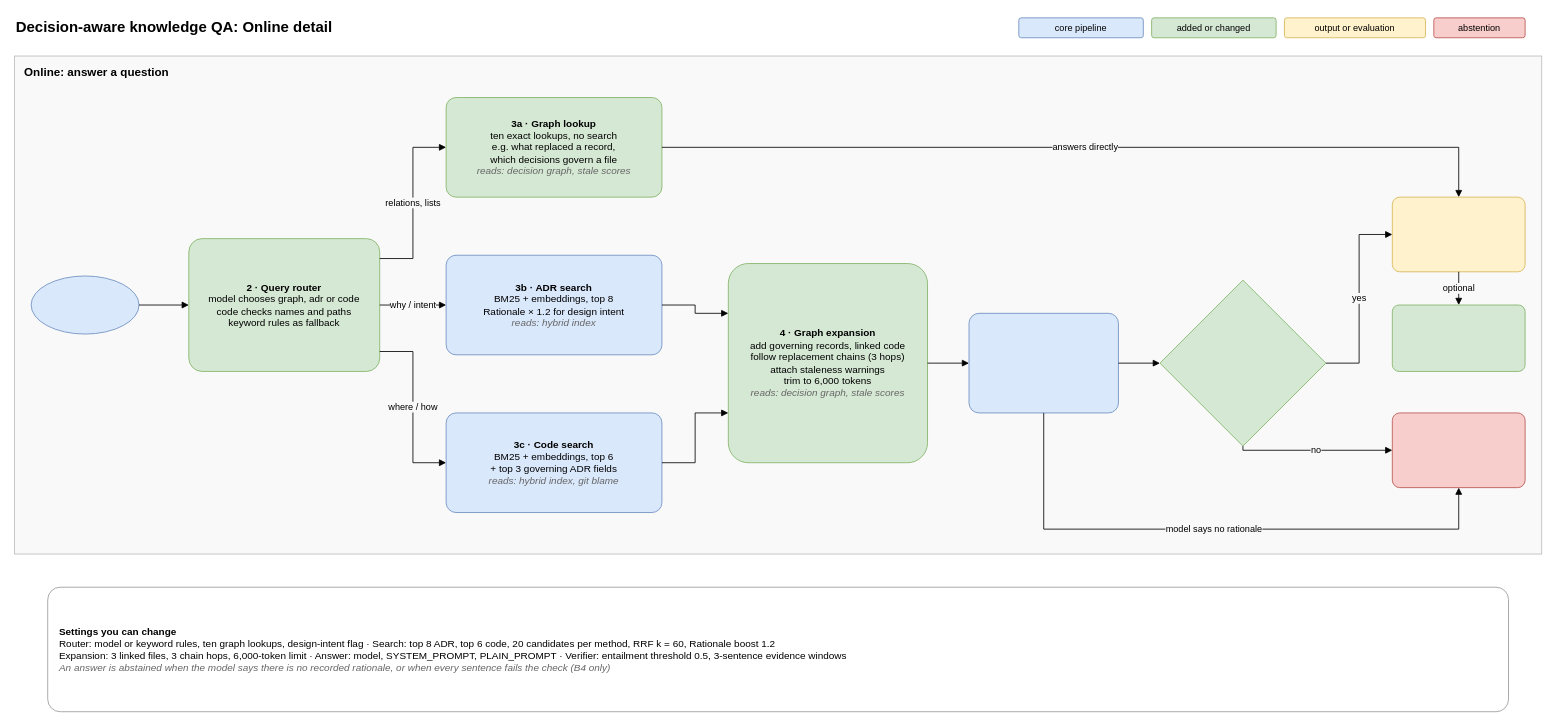
Some shapes in this 1556 by 726 pixel diagram are drawn without their labels. Each missing label, with the centre of its shape:
"1 · Developer question" belongs at pixel 84 304.
"5 · Answer model cites source IDs (SYSTEM_PROMPT)" belongs at pixel 1043 362.
"6 · Supported? in context entailment ≥ 0.5" belongs at pixel 1242 362.
"7 · Abstain No recorded rationale + sources checked" belongs at pixel 1458 450.
"7 · Answer citations + warnings" belongs at pixel 1458 234.
"Plain-words summary optional rewrite" belongs at pixel 1458 337.
